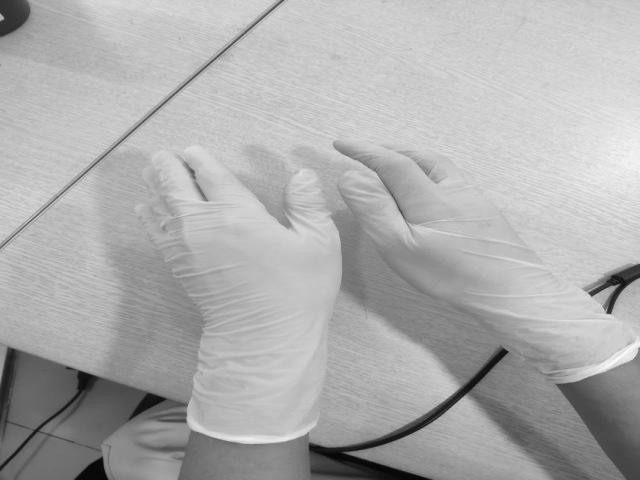gloved: (333, 133, 572, 303), (134, 148, 342, 330)
